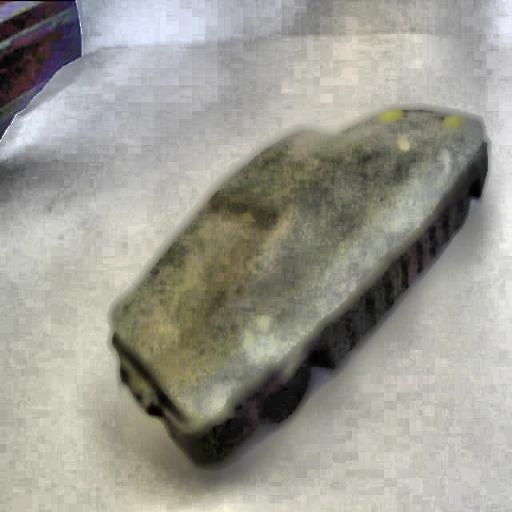normal_car: (110, 108, 488, 470)
